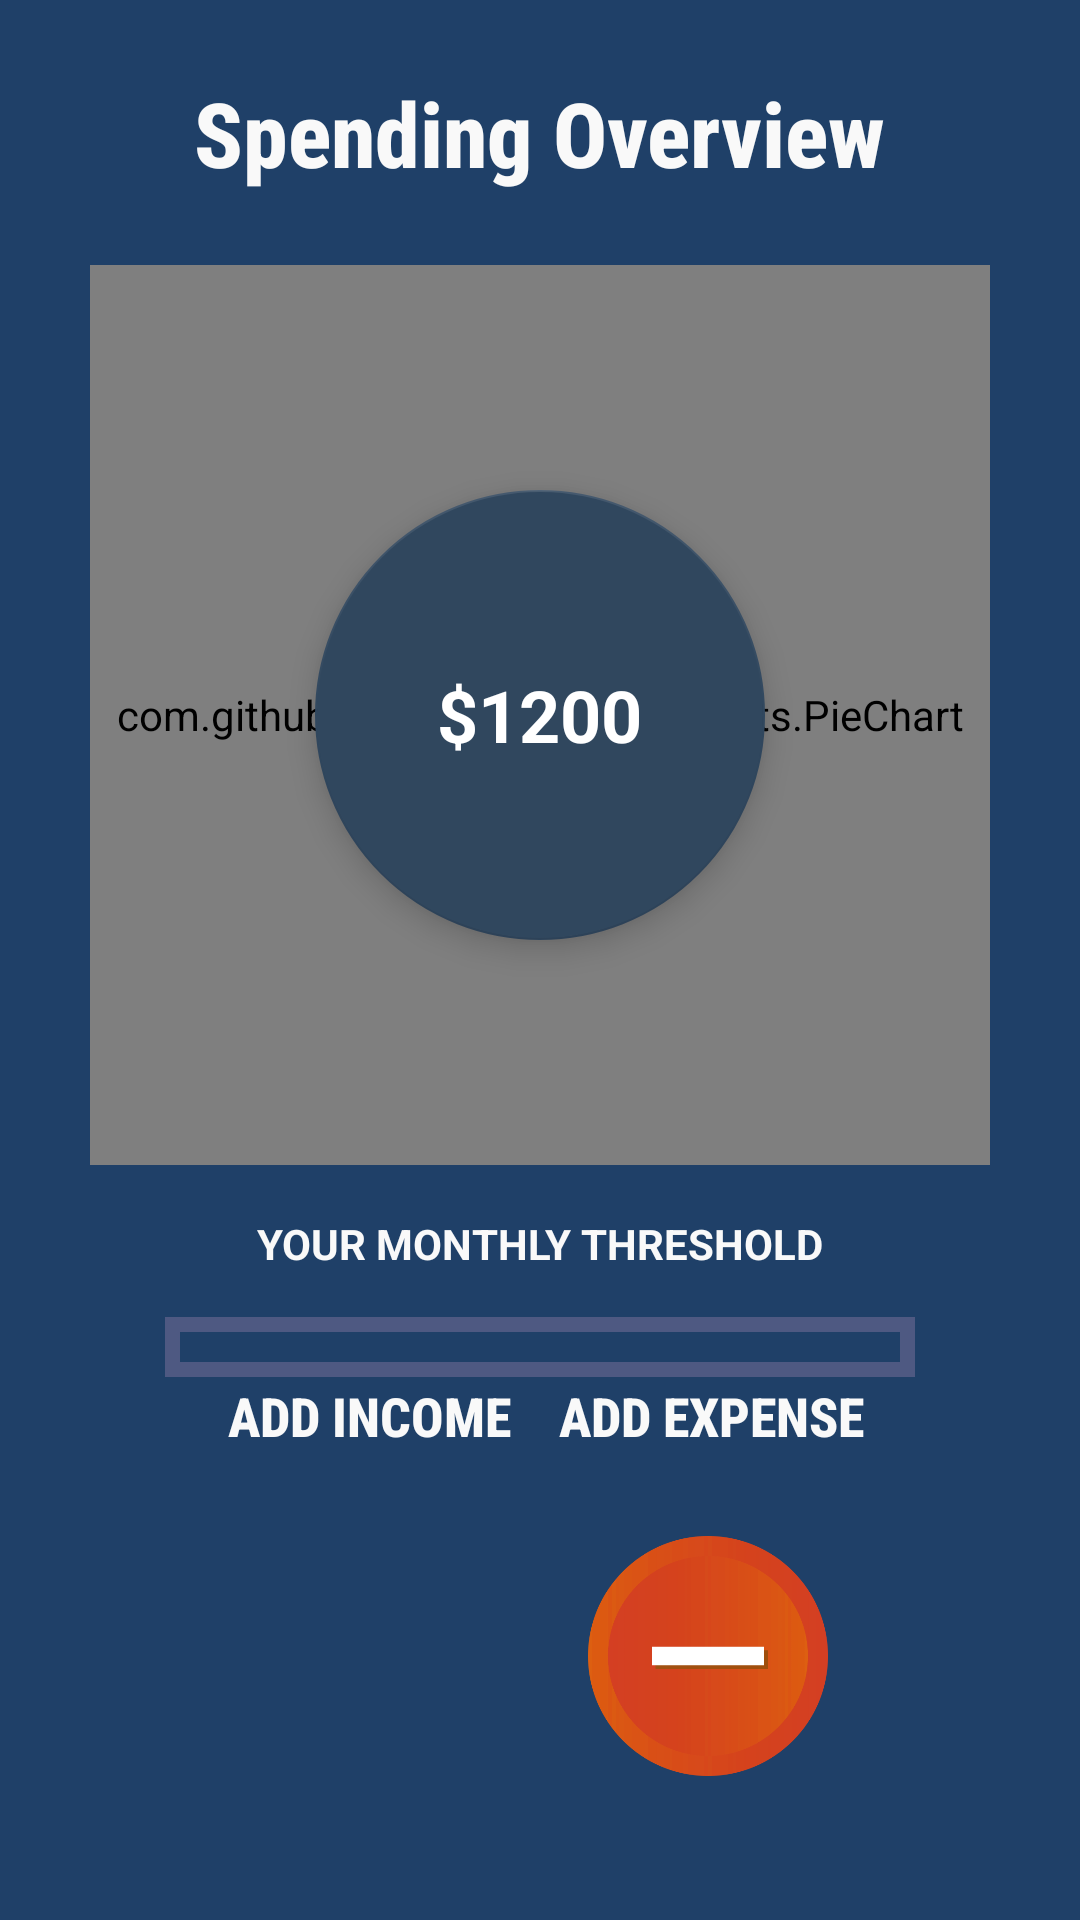

Screen size 1080px×1920px. Icon name, then its center in pixels as (x=x, y=y):
minus: (x=708, y=1656)
